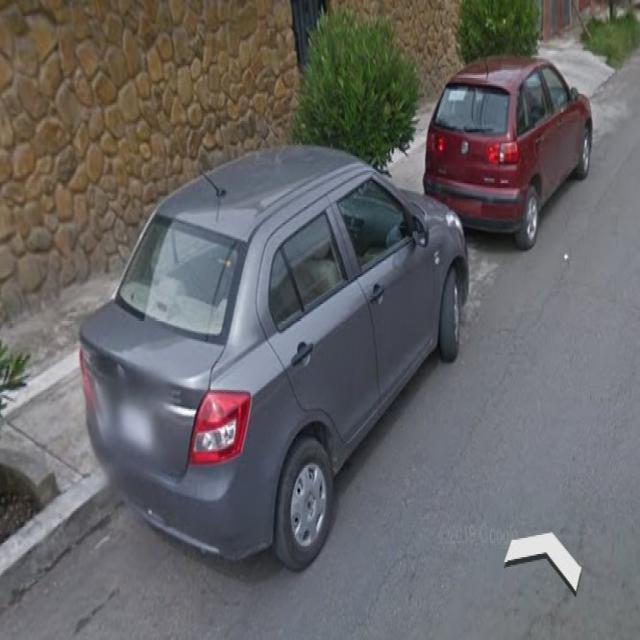cars: (80, 164, 462, 581), (437, 46, 592, 239)
